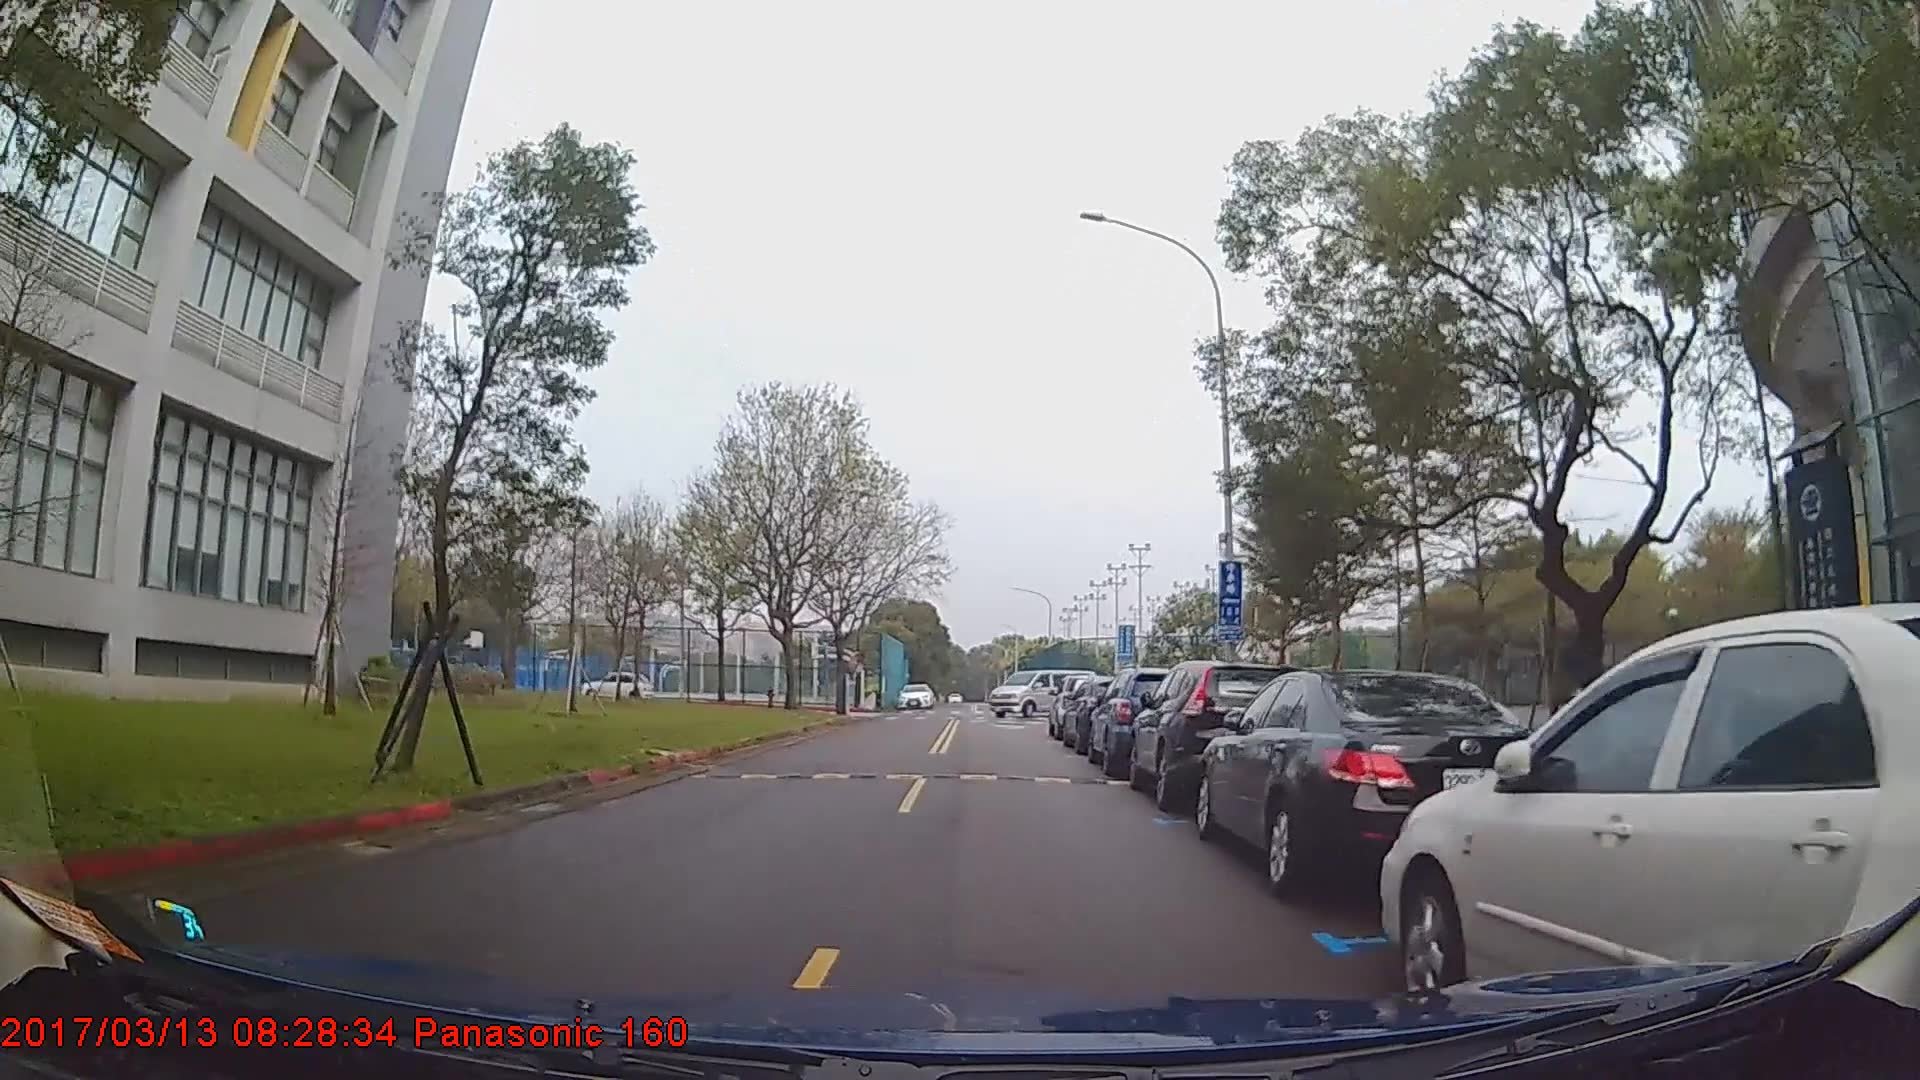vehicle: (1378, 603, 1920, 1027), (1197, 669, 1563, 899), (1126, 659, 1309, 810), (1088, 667, 1192, 777), (989, 669, 1097, 720), (579, 670, 654, 700), (895, 682, 936, 709)
